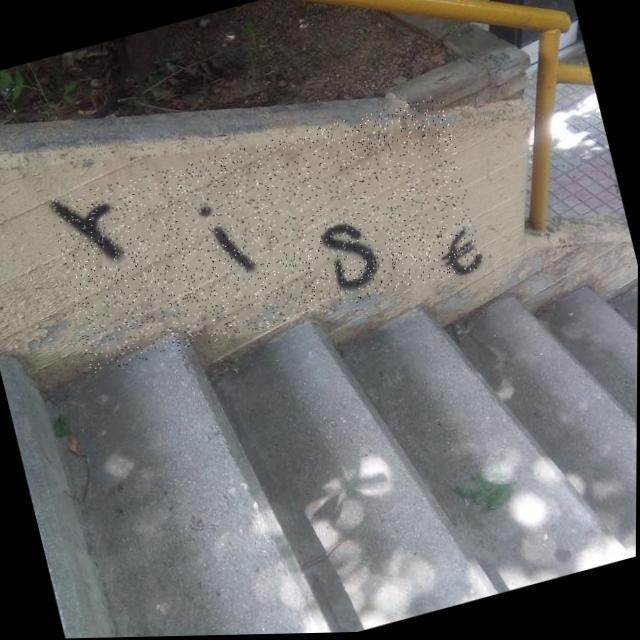-: (46, 94, 486, 376)
